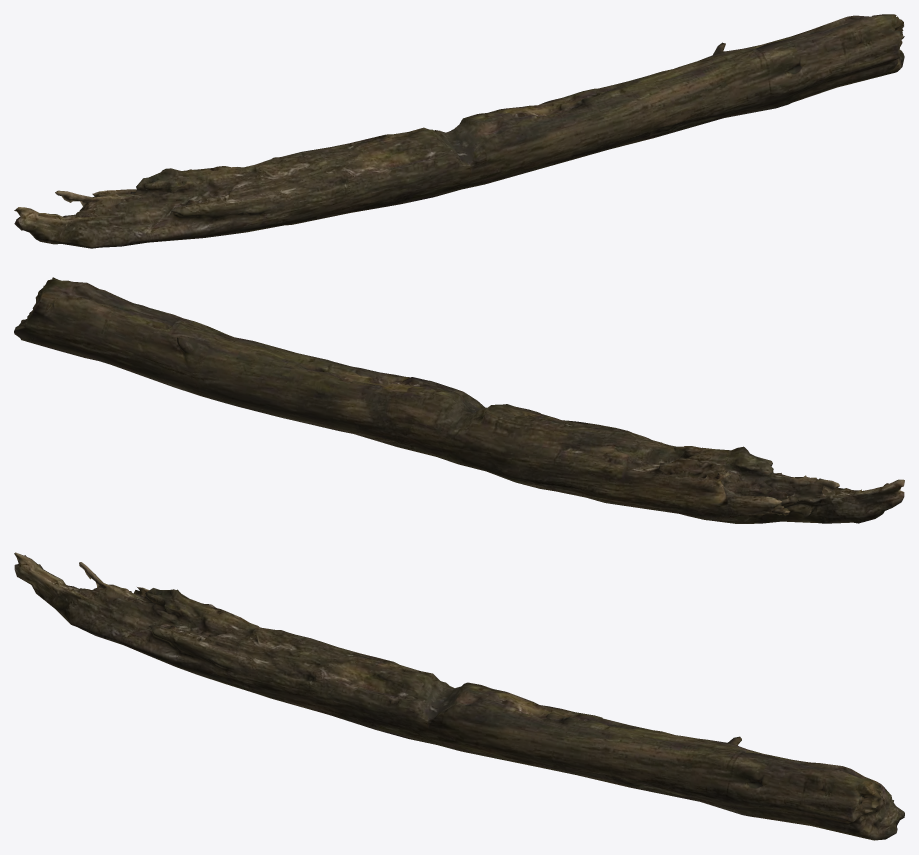
The model's file is dead_tree_trunk.glb.
3 renders of one model, top to bottom at view 1: azimuth 30°, elevation 25°; view 2: azimuth 150°, elevation 25°; view 3: azimuth 330°, elevation 25°, orthographic.
Parts seen in each view (by area): view 1: dead_tree_trunk; view 2: dead_tree_trunk; view 3: dead_tree_trunk.
Boxes of the visible parts, <box> form: dead_tree_trunk: <box>14,14,904,248</box>; dead_tree_trunk: <box>14,277,904,523</box>; dead_tree_trunk: <box>14,552,904,840</box>.
Bounding box in the file's own units: 3.05 × 0.2904 × 0.2773.
Materials: 1 (1 with a texture image).
